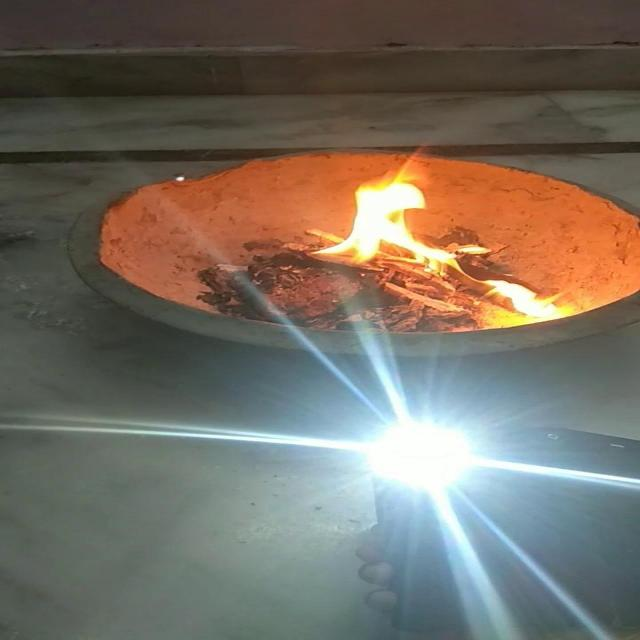fire: (300, 180, 569, 328)
